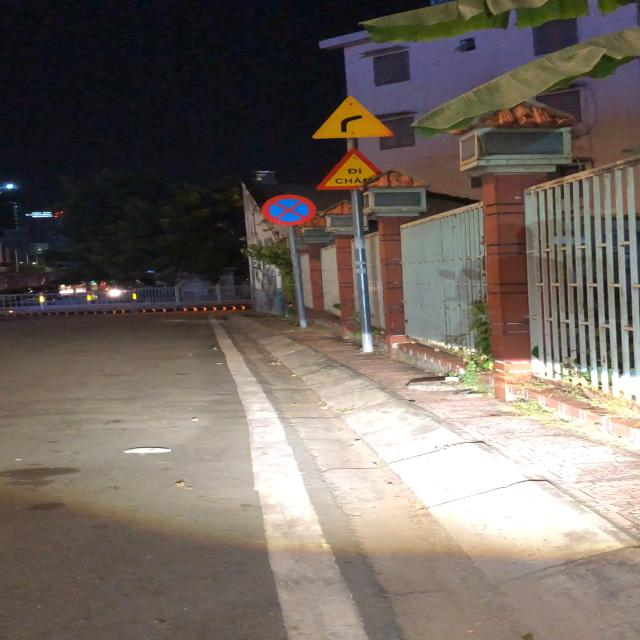Bien bao cam dung xe va do xe: (260, 193, 316, 227)
Bien bao cho ngoat nguy hiem: (308, 95, 397, 140)
Bien bao di cham: (312, 146, 391, 191)
